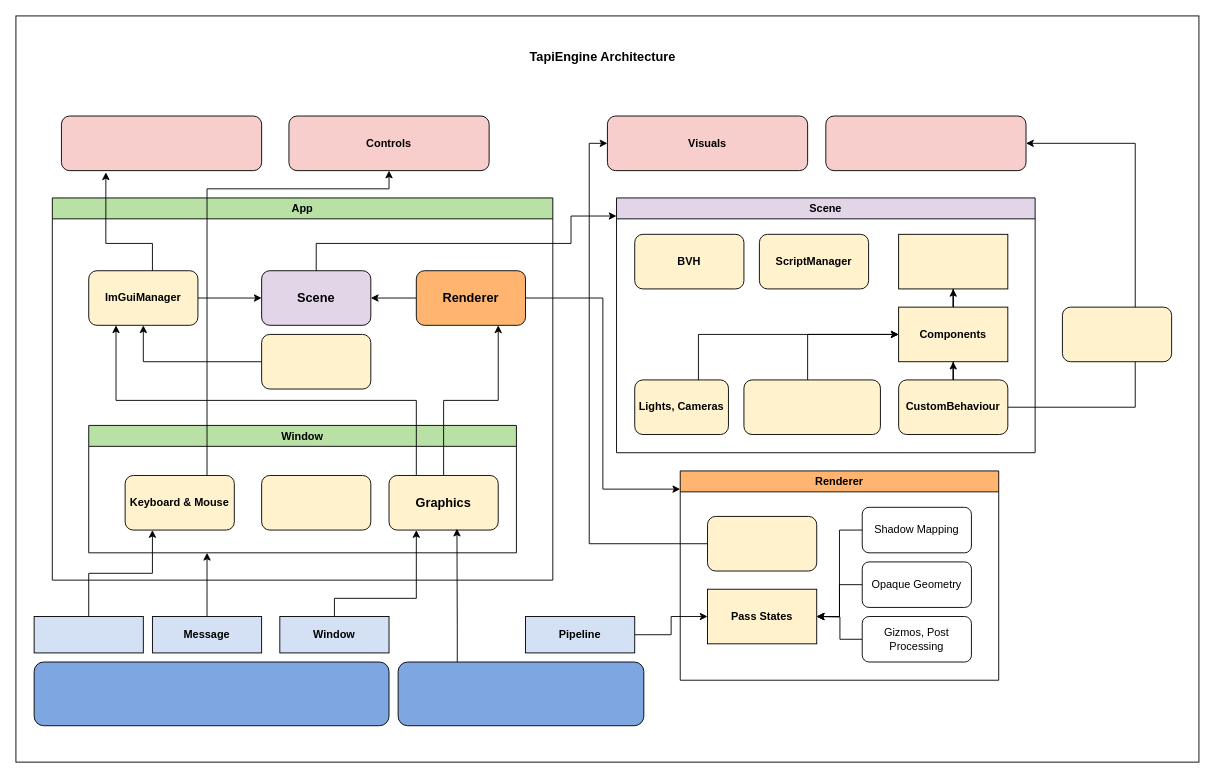
This 1215x778 diagram has some shape labels left out. The centre of each missing label's shape, as x and y in pixels:
DirectX 11: (520,693)
DrawableComponent: (811,407)
Error Handling: (316,502)
GameObjects: (953,261)
Input: (88,634)
Logging: (316,361)
Render Queue: (762,543)
Script Registry: (1117,334)
User Interface: (161,143)
User-Defined Code: (925,143)
win32 API: (211,693)
